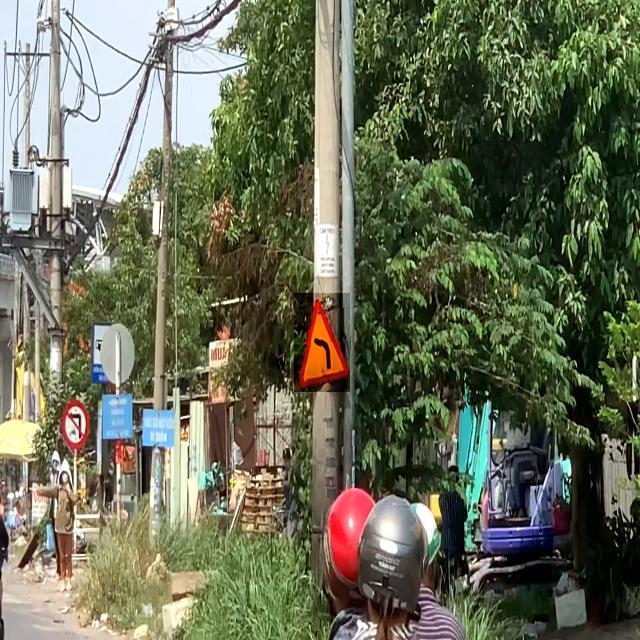W-201a: (294, 293, 350, 392)
